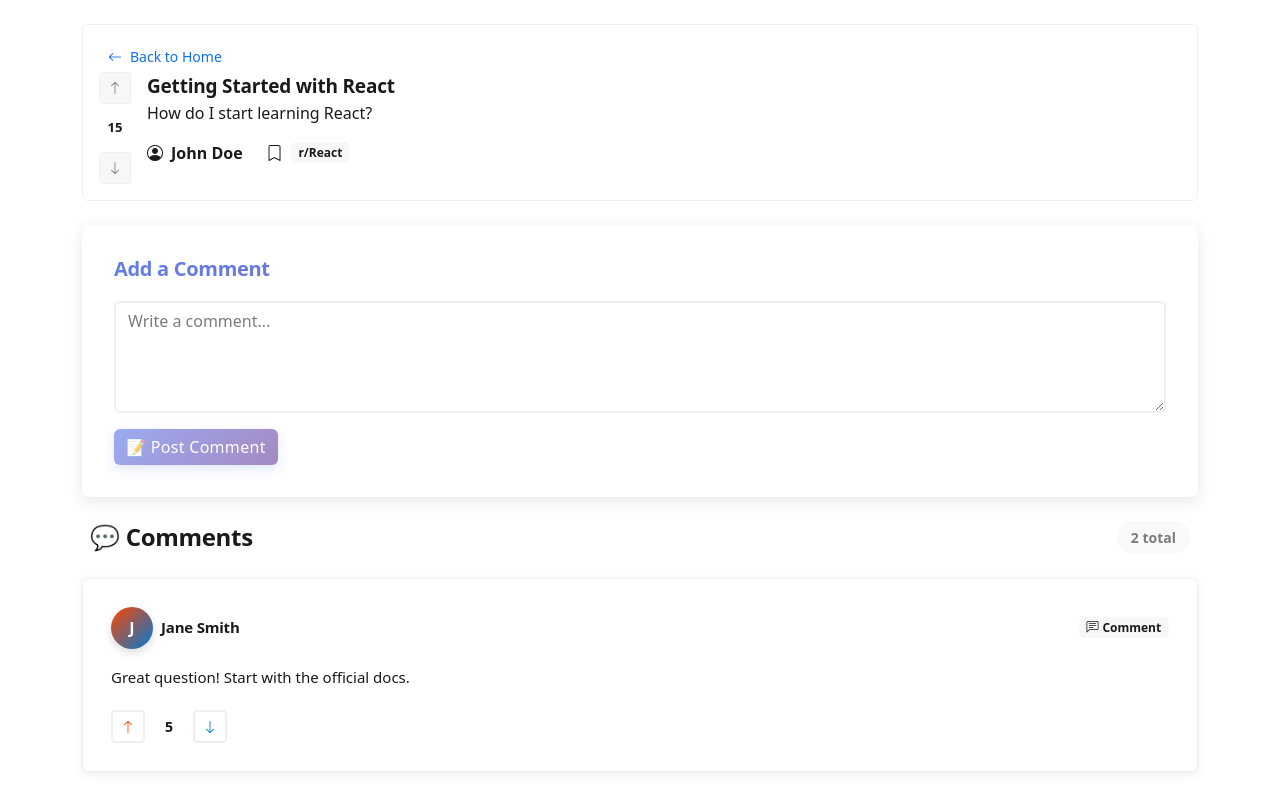
Scenario: Comment UI workflow › posts a comment with the populated author and updates the comment count
Expected: the text "Great question! Start with the official docs." is shown, [111,666,410,686]
Type "A UI-created comment" into the text box with placeholder "Write a comment...". click: coordinates (640, 356)
box: [114,300,1166,412]
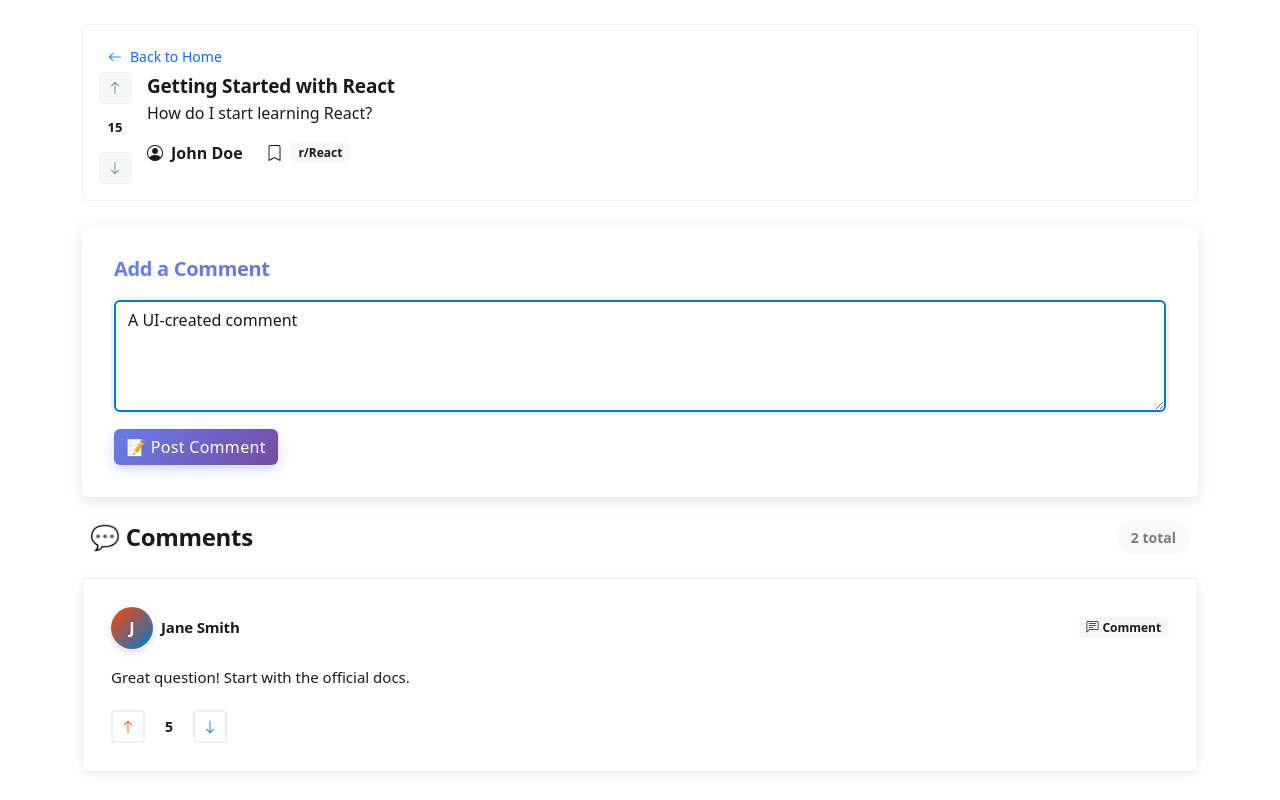
Click the button "📝 Post Comment". click: coordinates (196, 446)
box: [114,428,278,464]
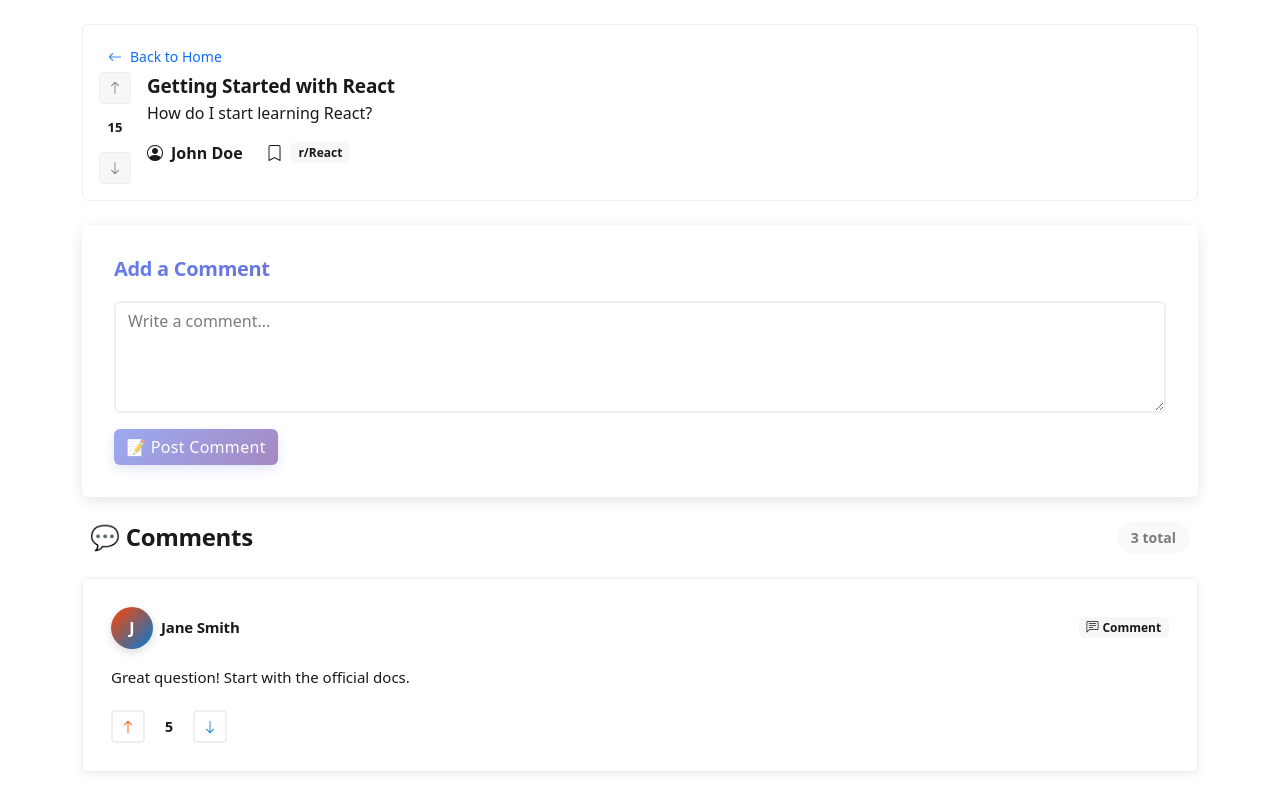
Now the text "3 total" is shown, box [1117,520,1190,554]
